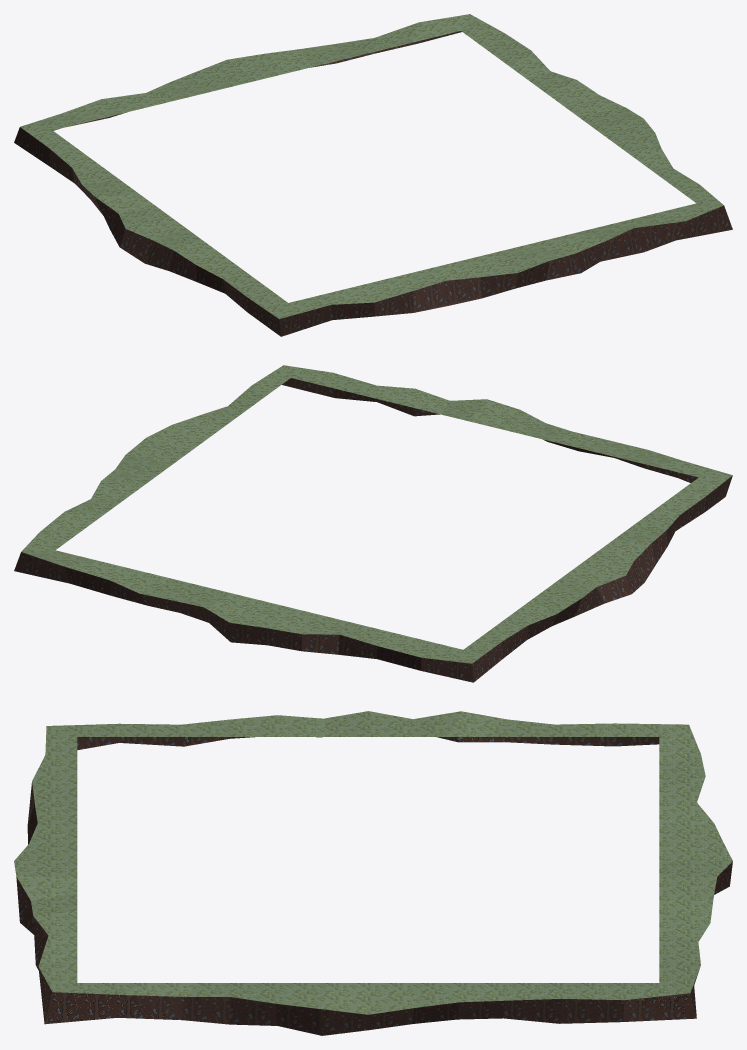
Rendered from entorno_18.fbx.
3 renders of one model, top to bottom at view 1: azimuth 30°, elevation 25°; view 2: azimuth 150°, elevation 25°; view 3: azimuth 270°, elevation 25°, orthographic. The views are drawn at different scales.
Parts seen in each view (by area): view 1: bosque_entorno_18; view 2: bosque_entorno_18; view 3: bosque_entorno_18.
Part boxes in pixels (bbox=[...]): bosque_entorno_18: bbox=[14, 14, 732, 336]; bosque_entorno_18: bbox=[14, 365, 732, 682]; bosque_entorno_18: bbox=[14, 711, 732, 1035].
Size of the model in its own units: 2260 by 107 by 2249.
Materials: 2 (2 with a texture image).
